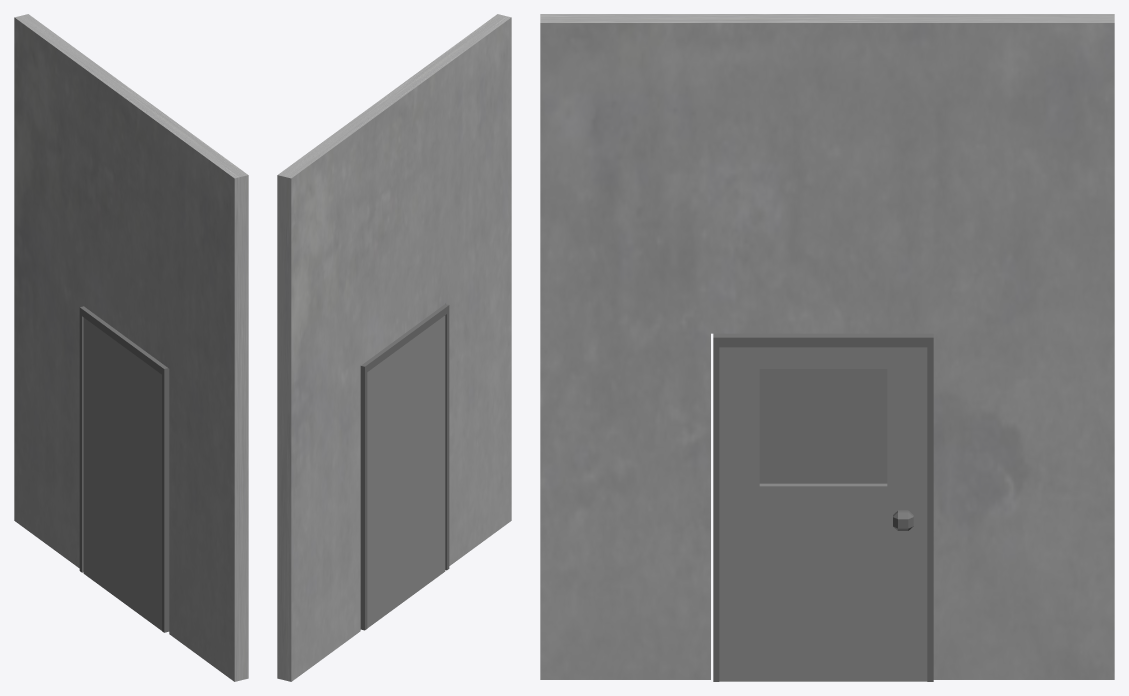
Rendered from MuurDeur 1.fbx.
3 renders of one model, left to right at view 1: azimuth 30°, elevation 25°; view 2: azimuth 150°, elevation 25°; view 3: azimuth 270°, elevation 25°, orthographic. The views are drawn at different scales.
Visible parts, largest first — view 1: pasted__polySurface11; view 2: pasted__polySurface11; view 3: pasted__polySurface11.
Part boxes in pixels (<box>): pasted__polySurface11: <box>14,14,248,681</box>; pasted__polySurface11: <box>277,14,511,681</box>; pasted__polySurface11: <box>540,14,1114,681</box>.
Size of the model in its own units: 0.3767 by 6.59 by 5.23.
Materials: 5 (1 with a texture image).
